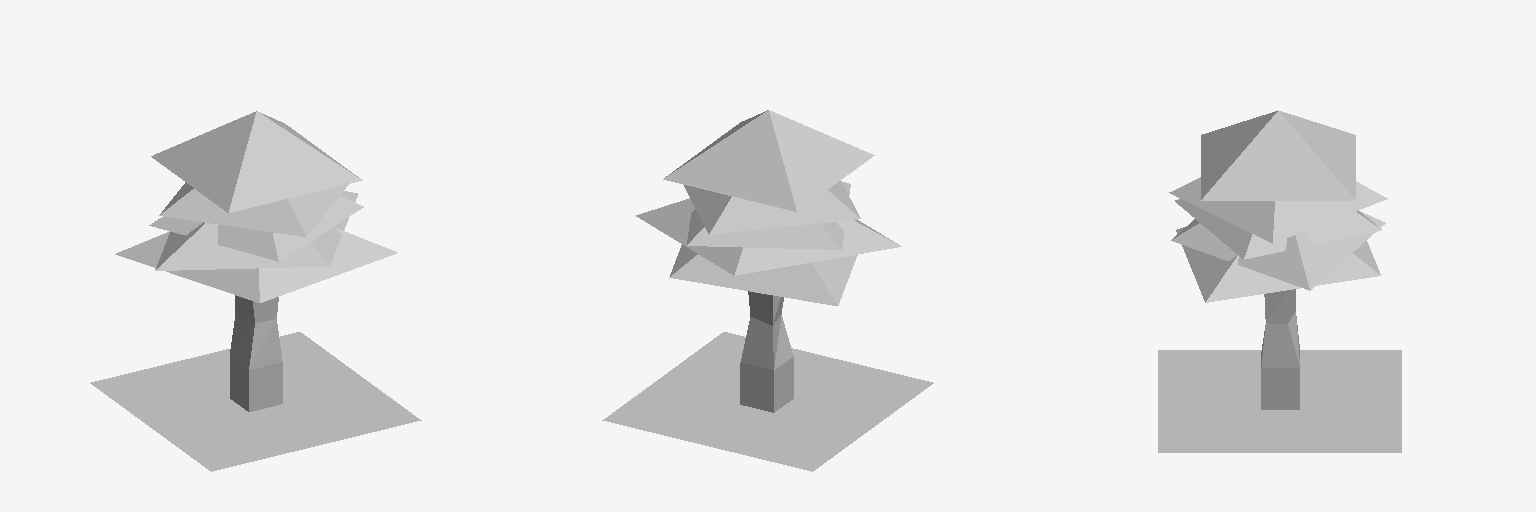
The model's file is tree4.obj.
The picture shows the model from 3 angles: view 1: azimuth 30°, elevation 25°; view 2: azimuth 150°, elevation 25°; view 3: azimuth 270°, elevation 25°; orthographic projection.
Visible parts, largest first — view 1: Pyramid007; view 2: Pyramid007; view 3: Pyramid007.
Part boxes in pixels (x1,y1,x2,y2): Pyramid007: (90,111,421,471); Pyramid007: (602,110,933,471); Pyramid007: (1158,110,1401,452).
Size of the model in its own units: 8.39 by 9.91 by 7.5.